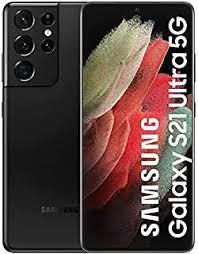Smartphone: (80, 6, 193, 253), (3, 7, 84, 252)
